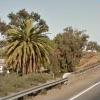Tree: (10, 7, 79, 76)
